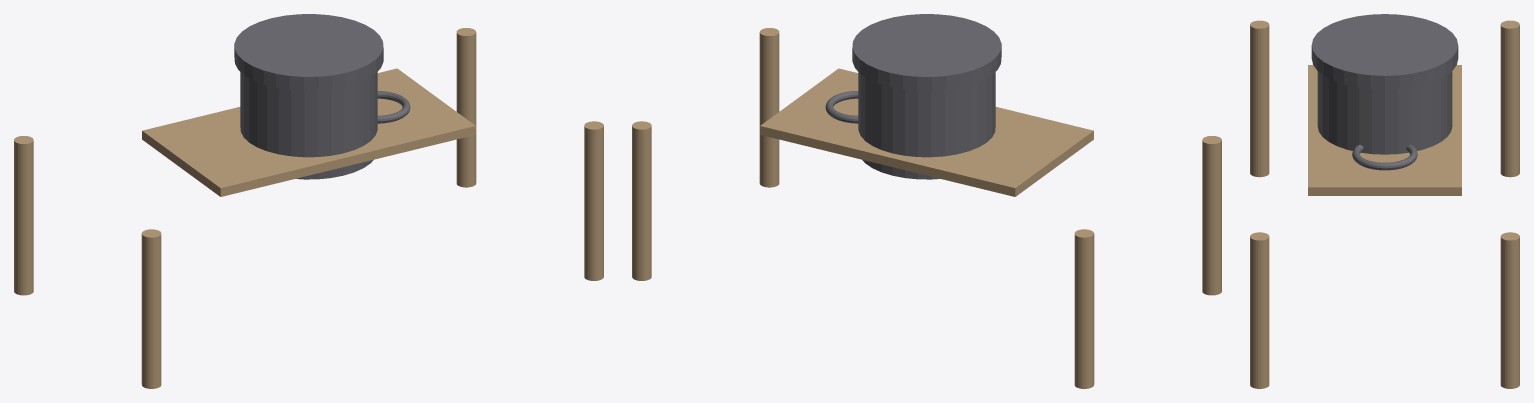
Rendered from kettle_cauldron.glb.
The picture shows the model from 3 angles, left to right: view 1: azimuth 30°, elevation 25°; view 2: azimuth 150°, elevation 25°; view 3: azimuth 270°, elevation 25°; orthographic projection.
Parts seen in each view (by area): view 1: bench_top, kettle_body, kettle_lid, bench_leg_-1.3_-0.65, bench_leg_1.3_-0.65, bench_leg_-1.3_0.65, bench_leg_1.3_0.65, kettle_handle; view 2: bench_top, kettle_body, kettle_lid, bench_leg_-1.3_0.65, bench_leg_1.3_0.65, bench_leg_-1.3_-0.65, bench_leg_1.3_-0.65, kettle_handle; view 3: kettle_lid, kettle_body, bench_top, bench_leg_-1.3_0.65, bench_leg_-1.3_-0.65, bench_leg_1.3_0.65, bench_leg_1.3_-0.65, kettle_handle.
Boxes of the visible parts, x1,y1,x2,y2 form: bench_top: (142, 68, 475, 196); kettle_body: (240, 72, 377, 179); kettle_lid: (234, 14, 383, 91); bench_leg_-1.3_-0.65: (141, 229, 161, 388); bench_leg_1.3_-0.65: (584, 121, 603, 280); bench_leg_-1.3_0.65: (14, 136, 33, 295); bench_leg_1.3_0.65: (456, 28, 476, 187); kettle_handle: (377, 91, 410, 123); bench_top: (760, 68, 1093, 196); kettle_body: (858, 72, 995, 179); kettle_lid: (852, 14, 1001, 91); bench_leg_-1.3_0.65: (1074, 229, 1094, 388); bench_leg_1.3_0.65: (632, 121, 651, 280); bench_leg_-1.3_-0.65: (1202, 136, 1221, 295); bench_leg_1.3_-0.65: (759, 28, 779, 187); kettle_handle: (825, 91, 858, 123); kettle_lid: (1311, 14, 1458, 89); kettle_body: (1317, 71, 1452, 154); bench_top: (1308, 65, 1461, 195); bench_leg_-1.3_0.65: (1500, 20, 1519, 177); bench_leg_-1.3_-0.65: (1250, 20, 1269, 177); bench_leg_1.3_0.65: (1500, 232, 1519, 388); bench_leg_1.3_-0.65: (1250, 232, 1269, 388); kettle_handle: (1352, 144, 1417, 170).
Bounding box in the file's own units: 2.7 × 1.34 × 1.4.
